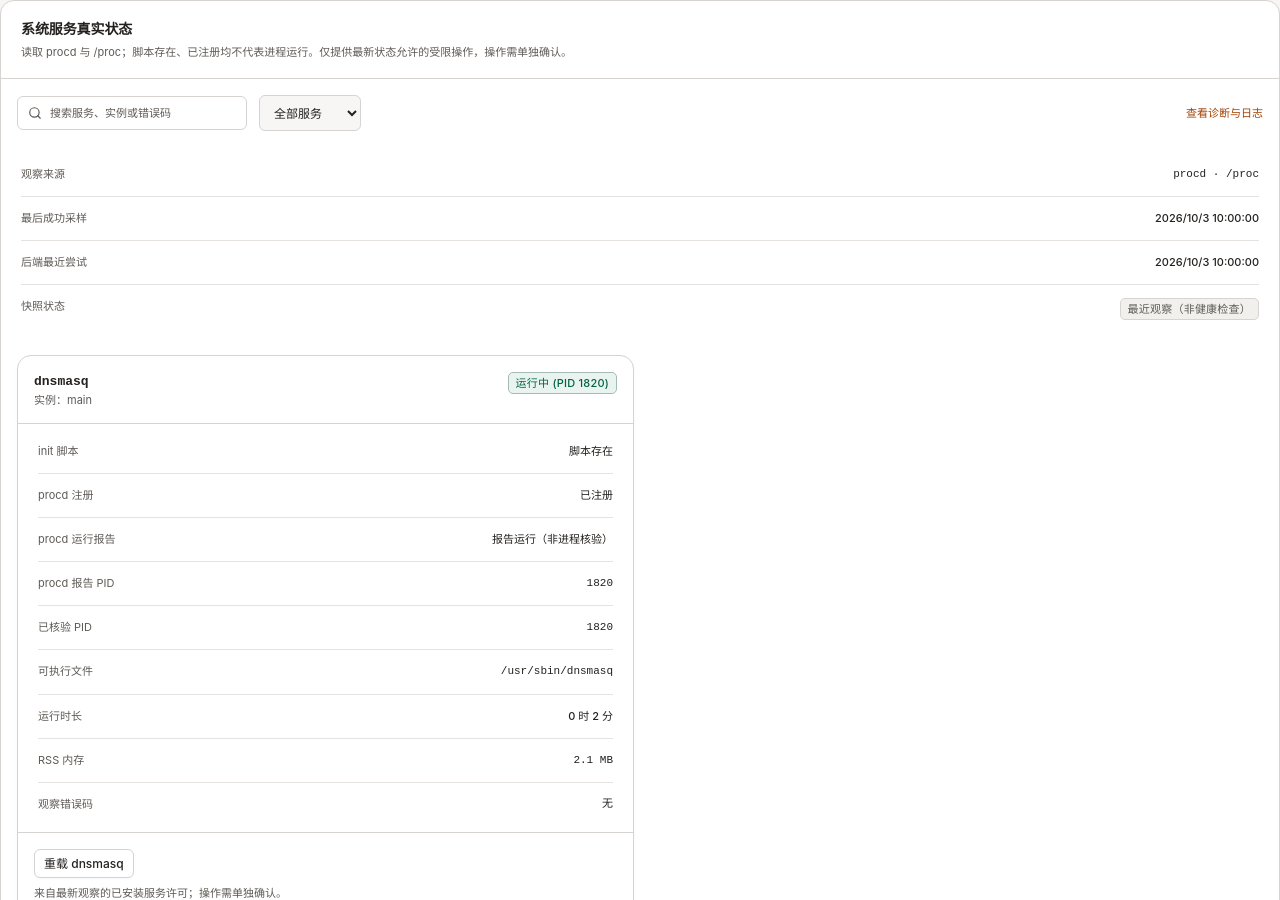
Test case: controlled installed-service actions › requires a selected-action dialog and explicit one-line DNS/DHCP impact acknowledgement
Click the button "重载 dnsmasq" at (84,863), box x1=34 y1=849 x2=134 y2=878
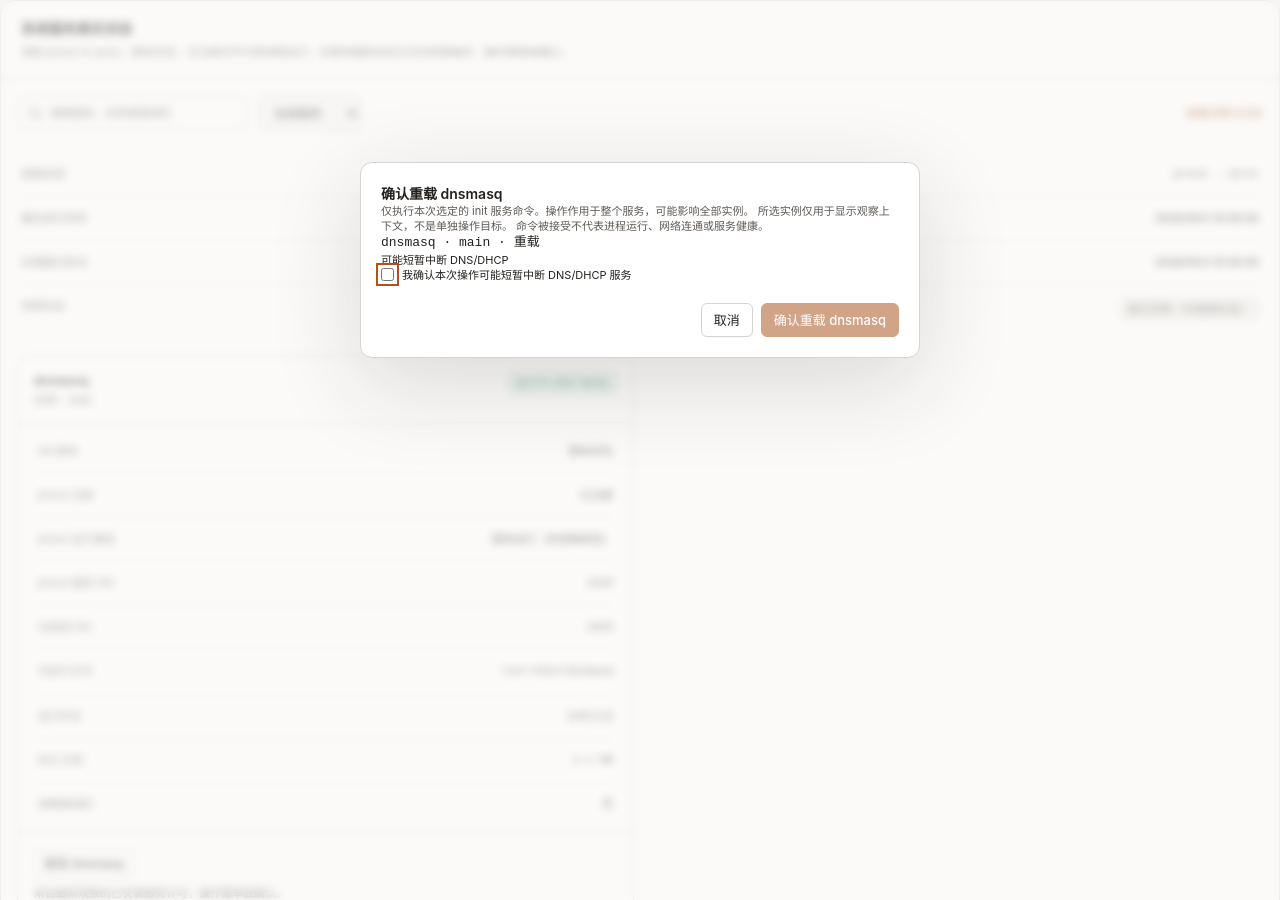
Check: the text "所选实例仅用于显示观察上下文，不是单独操作目标" is shown, box x1=381 y1=204 x2=890 y2=233
Check: the text "dnsmasq · main · 重载" is shown, box x1=381 y1=235 x2=540 y2=250
Check: the text "可能短暂中断 DNS/DHCP" is shown, box x1=381 y1=254 x2=508 y2=268
Click the checkbox labelled "我确认本次操作可能短暂中断 DNS/DHCP 服务" at (388,275), box x1=381 y1=268 x2=394 y2=281
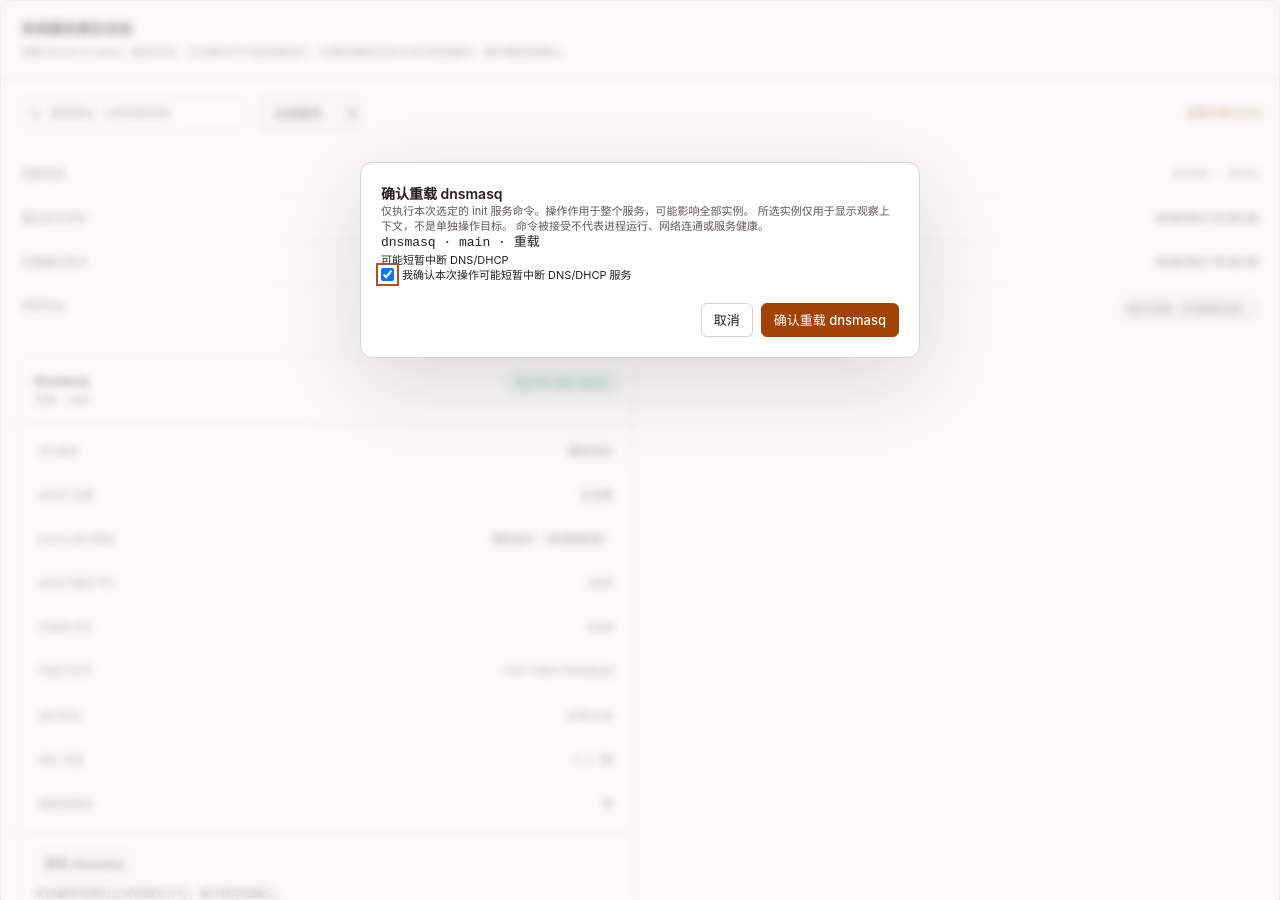
Click the button "确认重载 dnsmasq" at (830,320), box x1=761 y1=303 x2=899 y2=337
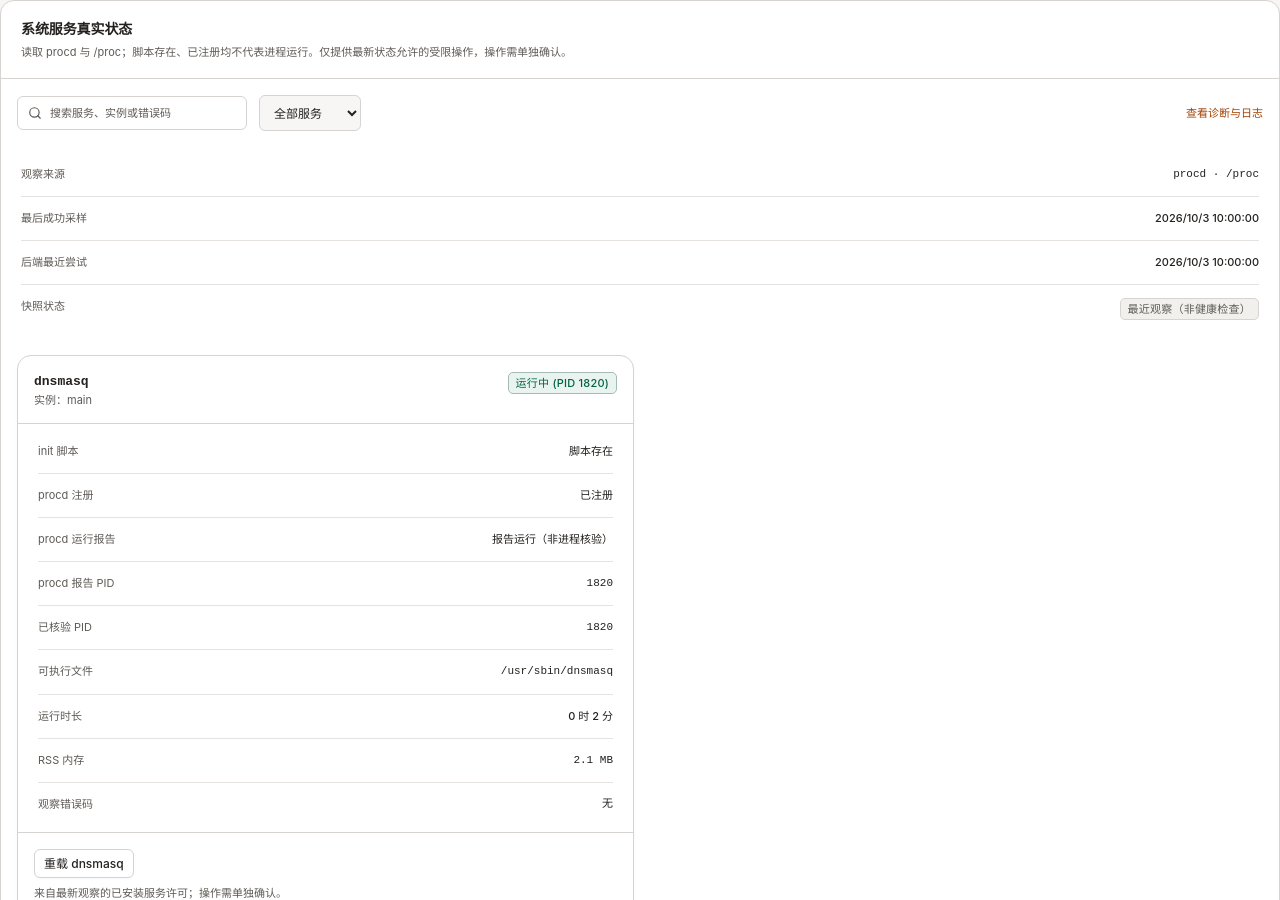
Check: the dialog is gone
